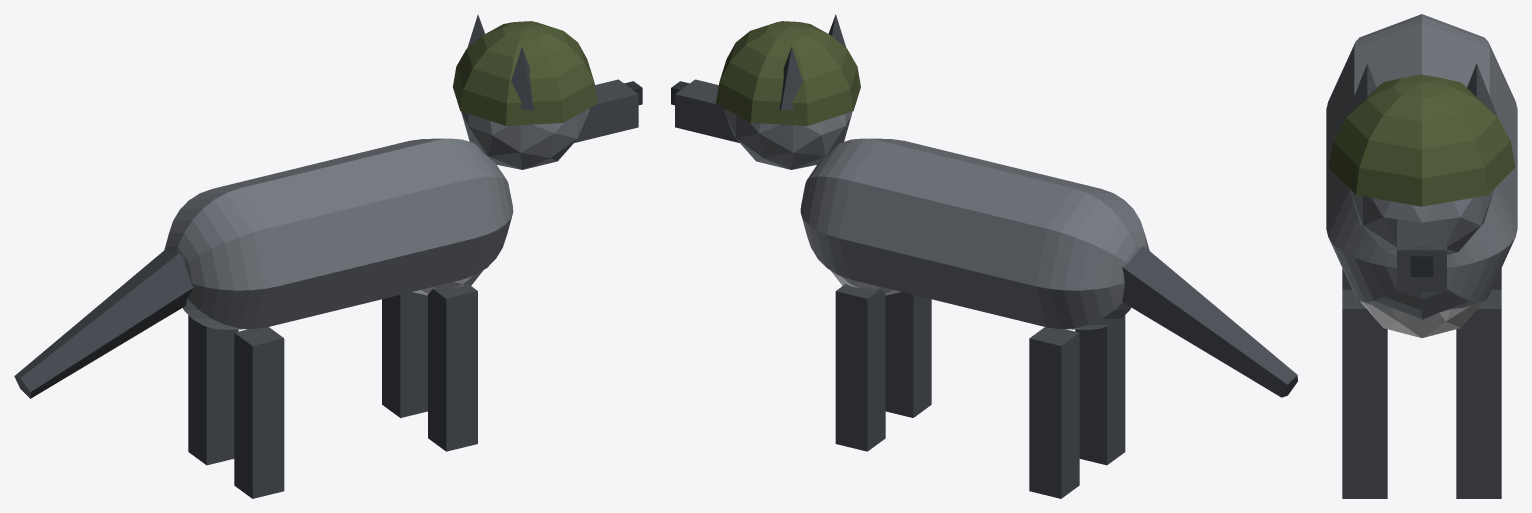
The model's file is Wolf.glb.
The picture shows the model from 3 angles, left to right: view 1: azimuth 30°, elevation 25°; view 2: azimuth 150°, elevation 25°; view 3: azimuth 270°, elevation 25°; orthographic projection. The views are drawn at different scales.
Parts seen in each view (by area): view 1: Wolf, object 7, object 8, object 9, object 2, object 3, object 5; view 2: Wolf, object 7, object 9, object 8, object 2, object 3, object 6; view 3: Wolf, object 7, object 8, object 9, object 2, object 3, object 4, object 5, object 6.
Part boxes in pixels (left/top/right/bottom): Wolf: left=14, top=138, right=513, bottom=498; object 7: left=453, top=21, right=597, bottom=125; object 8: left=428, top=284, right=477, bottom=451; object 9: left=382, top=292, right=427, bottom=417; object 2: left=461, top=109, right=589, bottom=169; object 3: left=574, top=79, right=638, bottom=142; object 5: left=511, top=47, right=534, bottom=110; Wolf: left=800, top=138, right=1297, bottom=498; object 7: left=716, top=21, right=860, bottom=125; object 9: left=835, top=284, right=885, bottom=451; object 8: left=885, top=292, right=931, bottom=417; object 2: left=724, top=109, right=852, bottom=169; object 3: left=675, top=79, right=739, bottom=142; object 6: left=779, top=46, right=802, bottom=110; Wolf: left=1326, top=14, right=1517, bottom=337; object 7: left=1328, top=74, right=1515, bottom=206; object 8: left=1342, top=289, right=1387, bottom=498; object 9: left=1456, top=289, right=1501, bottom=498; object 2: left=1349, top=189, right=1494, bottom=254; object 3: left=1397, top=219, right=1446, bottom=291; object 4: left=1410, top=246, right=1433, bottom=276; object 5: left=1346, top=63, right=1376, bottom=117; object 6: left=1467, top=63, right=1497, bottom=117.
Bounding box in the file's own units: 28.3 × 16.46 × 6.09.
